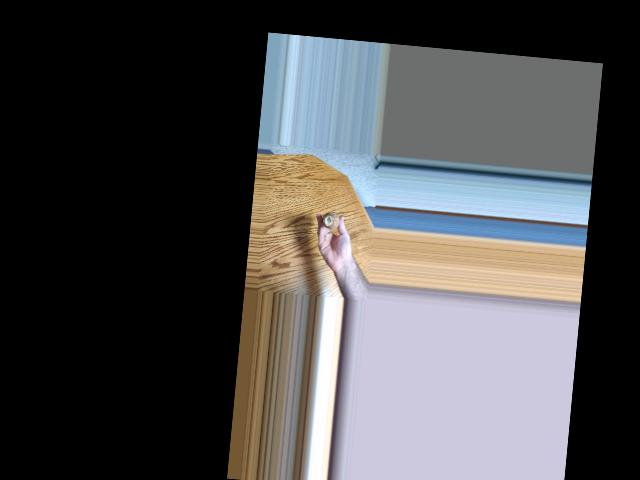sweet_potato: (322, 210, 342, 228)
